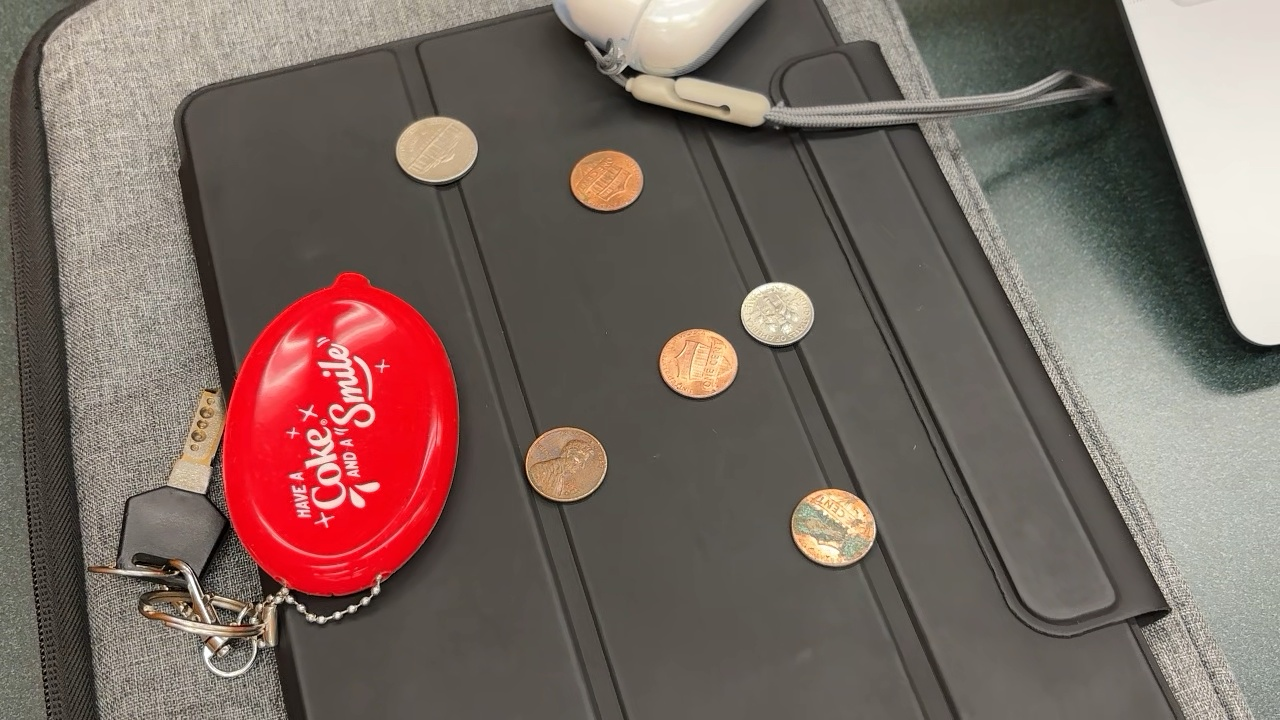dime: (394, 113, 482, 187)
nickel: (741, 283, 816, 347)
penny: (789, 488, 879, 572), (519, 425, 612, 504), (657, 327, 740, 399), (570, 148, 645, 213)
